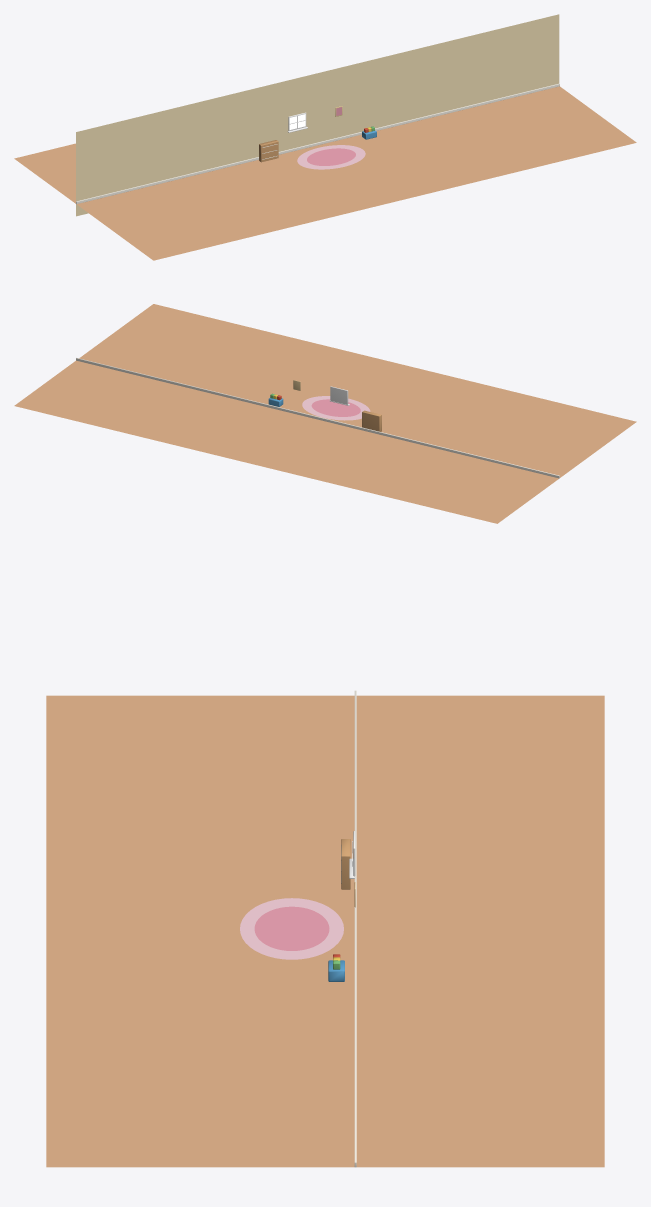
Rendered from sharing-with-friend.glb.
3 renders of one model, top to bottom at view 1: azimuth 30°, elevation 25°; view 2: azimuth 150°, elevation 25°; view 3: azimuth 270°, elevation 25°, orthographic. The views are drawn at different scales.
Bounding box in the file's own units: 60 × 10 × 30.
3 materials, 3 textured.
